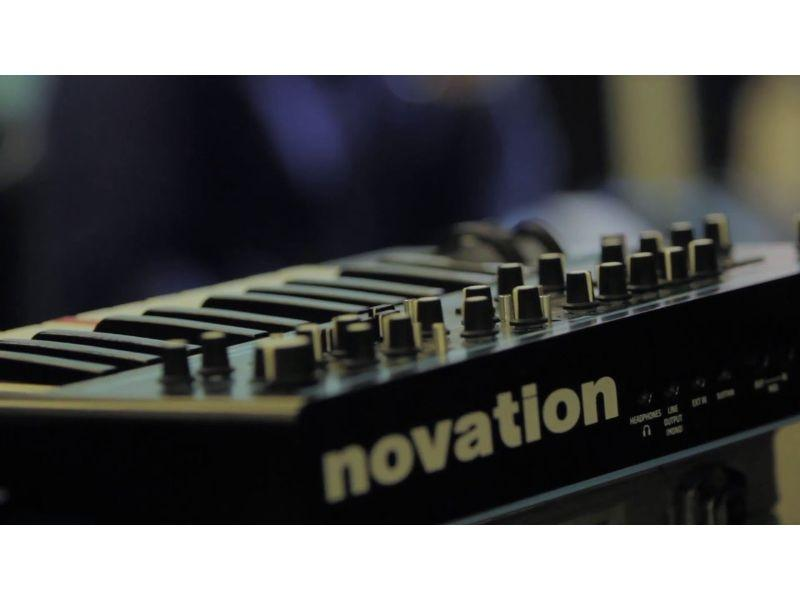synthesizer: (23, 216, 774, 497)
